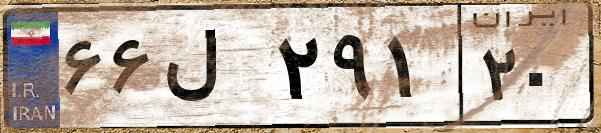0: (525, 38, 570, 115)
1: (385, 28, 445, 110)
2: (270, 28, 330, 110), (475, 38, 525, 113)
6: (57, 26, 110, 100), (110, 28, 158, 98)
9: (330, 28, 385, 110)
ل: (158, 20, 270, 120)
